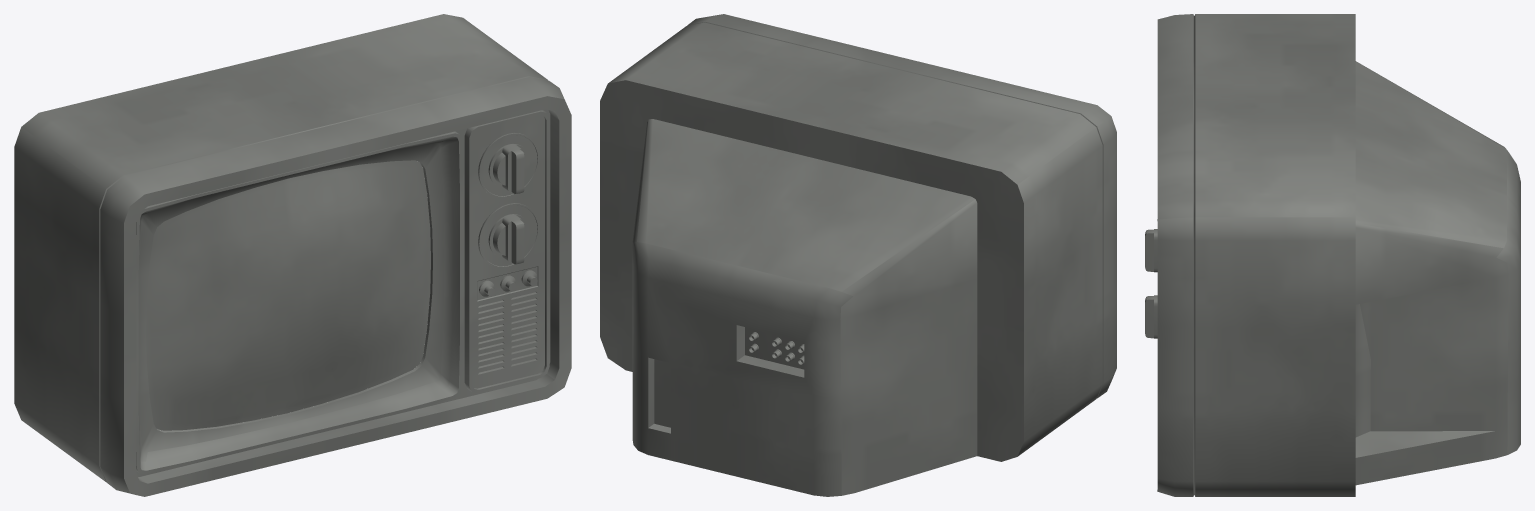
Rendered from tv_retro.glb.
The picture shows the model from 3 angles, left to right: view 1: azimuth 30°, elevation 25°; view 2: azimuth 150°, elevation 25°; view 3: azimuth 270°, elevation 25°; orthographic projection. The views are drawn at different scales.
Visible parts, largest first — view 1: tv_retro, screen; view 2: tv_retro; view 3: tv_retro.
Part boxes in pixels (box(x1,y1,x2,y2)): tv_retro: box(14, 14, 571, 496); screen: box(146, 160, 430, 430); tv_retro: box(600, 14, 1116, 496); tv_retro: box(1145, 14, 1520, 496).
Bounding box in the file's own units: 0.62 × 0.4054 × 0.4673.
Materials: 1 (1 with a texture image).
